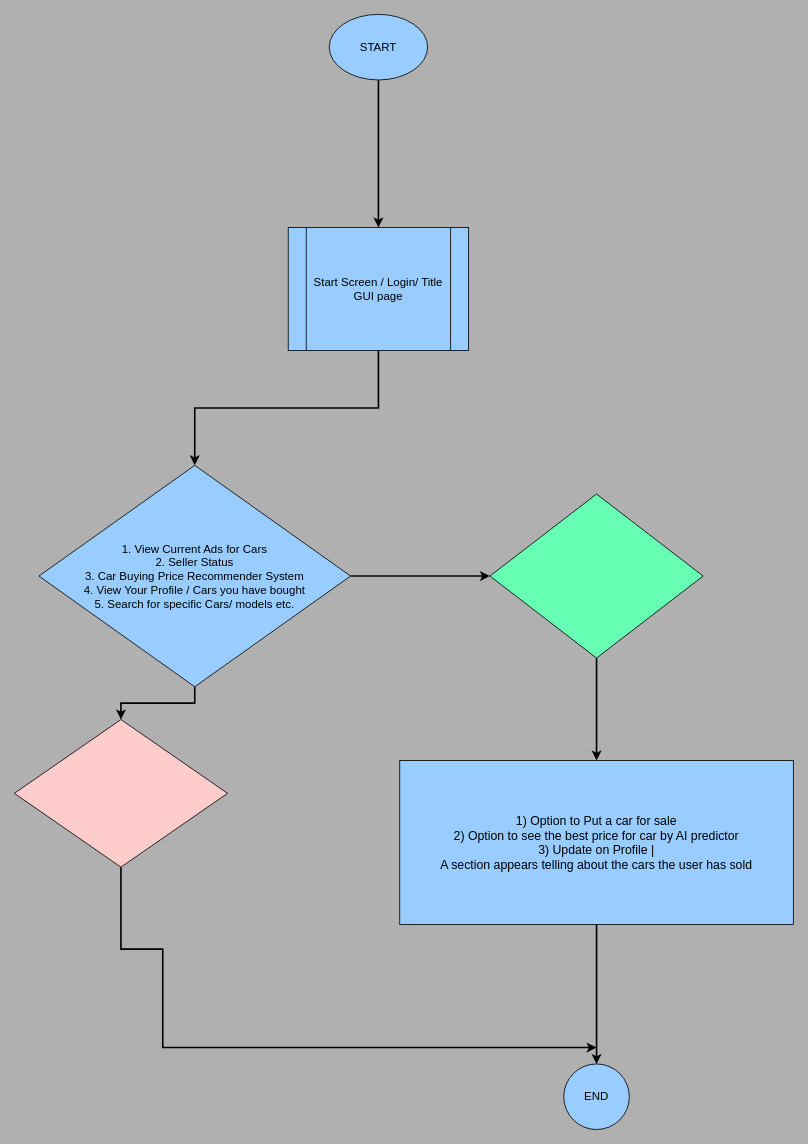
Some shapes in this 808 by 1144 pixel diagram are drawn without their labels. Here are the shapes that lost their labels. From the top down, the centre of each, then its label:
pixel 596 575: IF SELLER STATUS IS TRUE
pixel 121 793: IF SELLER STATUS IS FALSE
